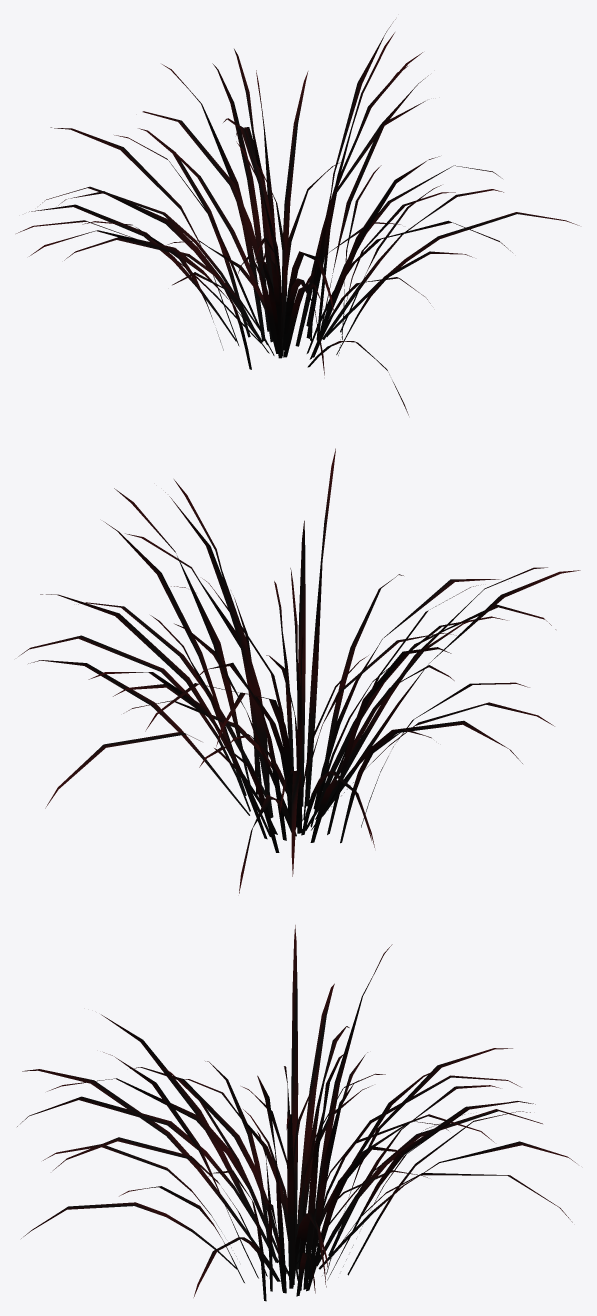
File: Grass02E.fbx
3 renders of one model, top to bottom at view 1: azimuth 30°, elevation 25°; view 2: azimuth 150°, elevation 25°; view 3: azimuth 270°, elevation 25°, orthographic. The views are drawn at different scales.
Visible parts, largest first — view 1: Grass02E; view 2: Grass02E; view 3: Grass02E.
Boxes of the visible parts, x1,y1,x2,y2 form: Grass02E: (16,19,579,415); Grass02E: (18,448,580,893); Grass02E: (17,925,576,1301).
Size of the model in its own units: 2.37 by 1.31 by 2.27.
